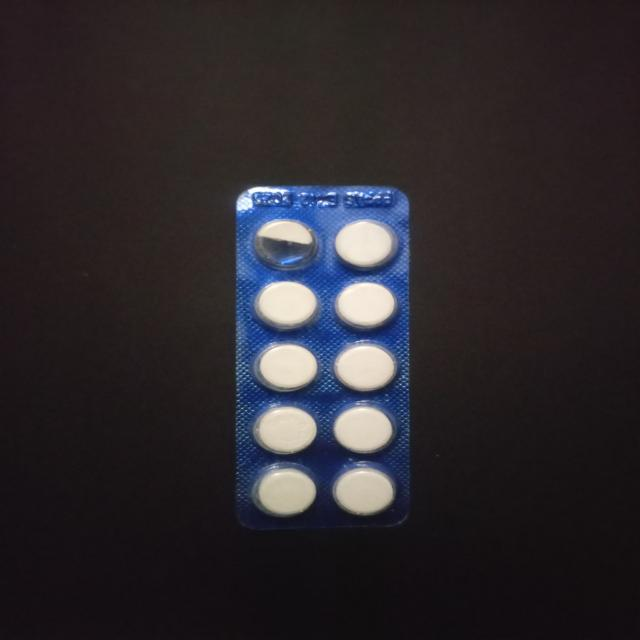defect: (250, 217, 322, 275)
